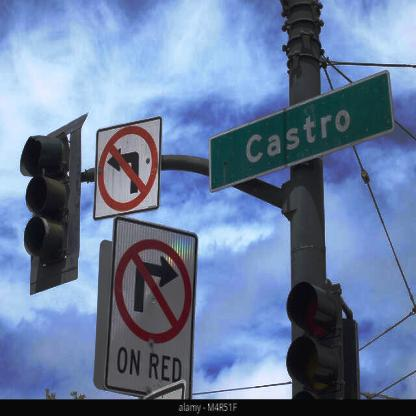No left turn: (98, 118, 158, 214)
